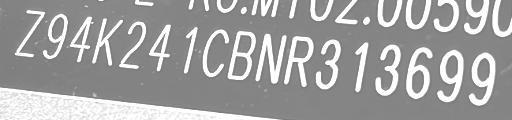letter: (252, 30, 288, 82), (466, 50, 496, 106), (225, 30, 257, 82), (283, 32, 315, 84), (312, 37, 344, 89), (88, 17, 124, 63), (145, 22, 177, 71), (436, 48, 464, 101), (117, 20, 147, 69), (200, 27, 230, 76), (346, 38, 374, 90), (404, 46, 432, 97), (375, 42, 401, 93), (15, 9, 43, 56), (179, 25, 203, 77), (44, 12, 70, 59), (69, 15, 95, 62)
